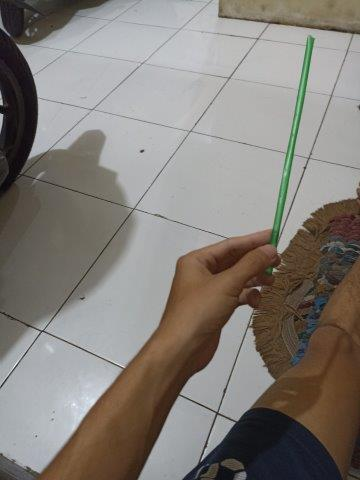sedotan: (265, 40, 314, 277)
